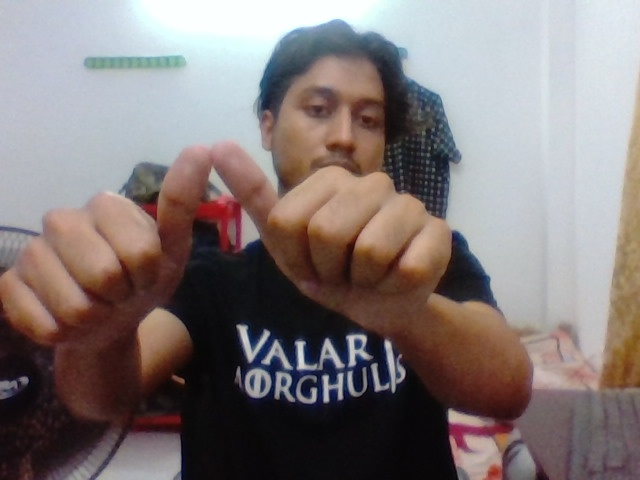A: (2, 151, 518, 352)
